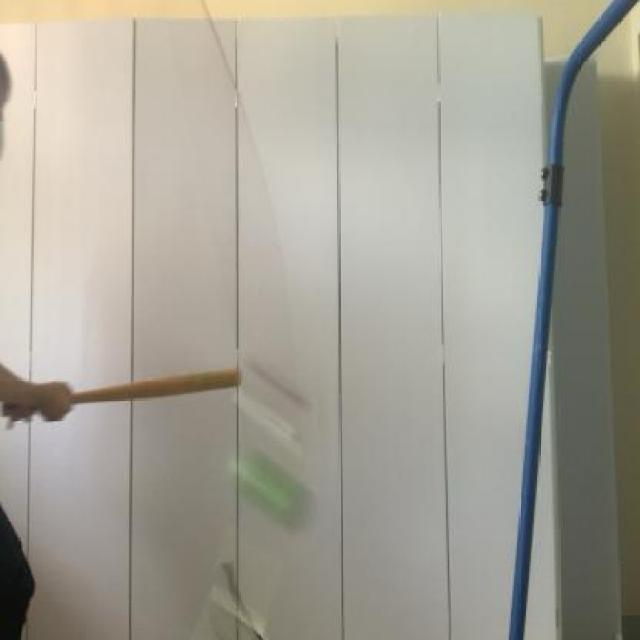baseball: (222, 437, 318, 538)
